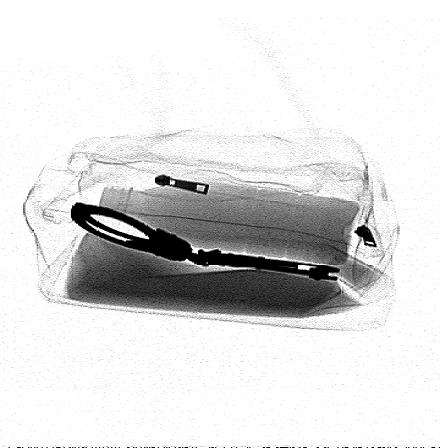HandCuffs: (71, 201, 341, 281)
